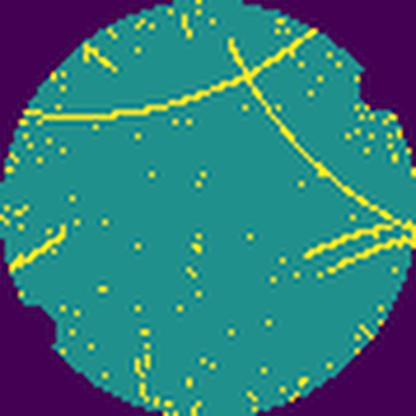Scratch: (222, 32, 415, 278), (21, 25, 320, 130), (9, 218, 73, 272)
